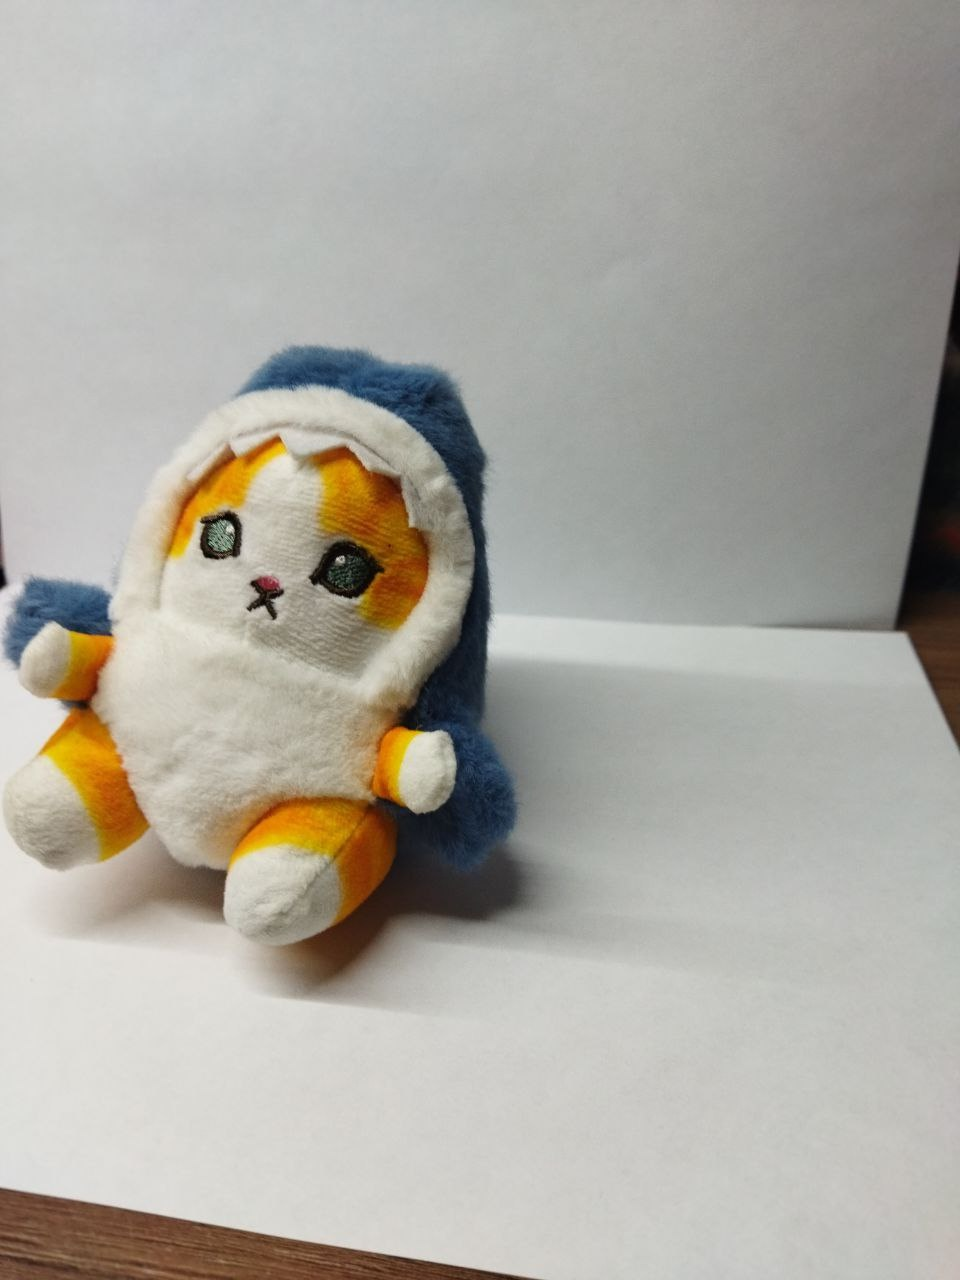Snark Cat: (1, 348, 520, 951)
